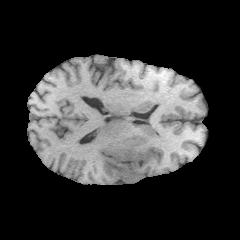glioma: (101, 151, 148, 179)
